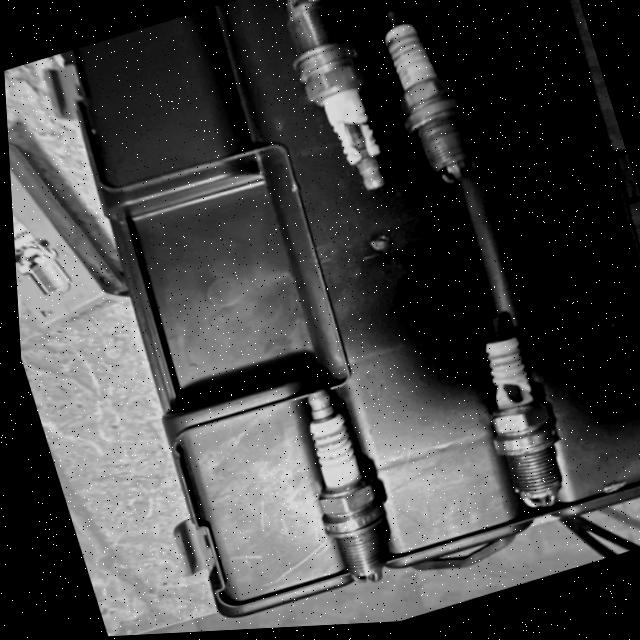damaged_spark-plug: (445, 301, 589, 530), (267, 0, 397, 213)
spark-plug: (269, 371, 414, 604), (362, 0, 489, 198)
